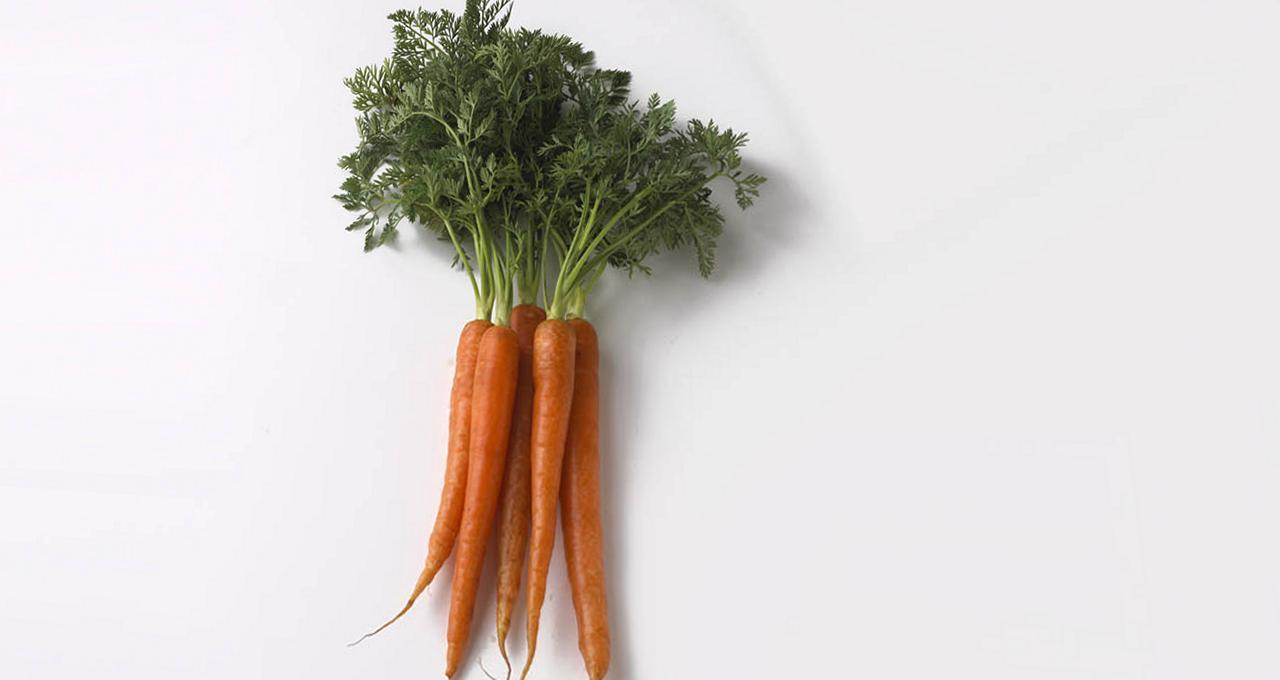carrot: (327, 8, 750, 680), (390, 25, 522, 680), (444, 300, 609, 680), (531, 314, 573, 661)
